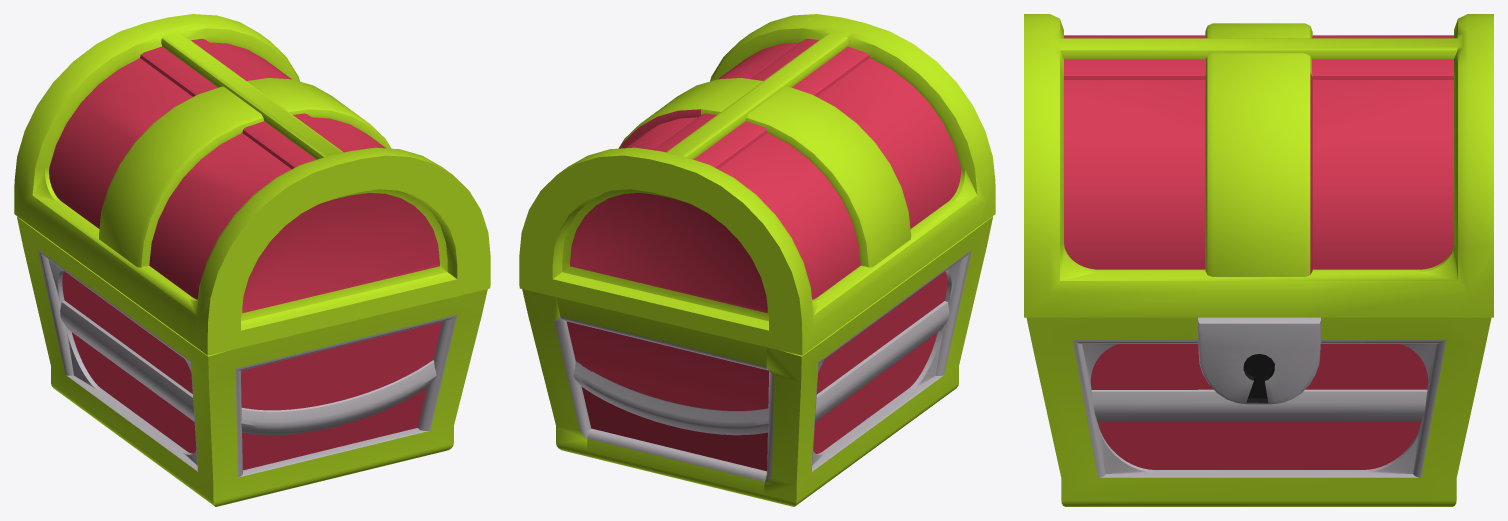
File: chest.fbx
3 renders of one model, left to right at view 1: azimuth 30°, elevation 25°; view 2: azimuth 150°, elevation 25°; view 3: azimuth 270°, elevation 25°, orthographic. The views are drawn at different scales.
Parts seen in each view (by area): view 1: Cube.001, Cube; view 2: Cube.001, Cube; view 3: Cube.001, Cube, Cube.002.
Part boxes in pixels (bbox=[...]): Cube.001: bbox=[14, 14, 490, 355]; Cube: bbox=[17, 216, 487, 506]; Cube.001: bbox=[519, 14, 995, 355]; Cube: bbox=[522, 216, 992, 506]; Cube.001: bbox=[1024, 14, 1493, 317]; Cube: bbox=[1026, 317, 1491, 506]; Cube.002: bbox=[1198, 317, 1320, 404].
Bounding box in the file's own units: 4.24 × 4.62 × 4.9.
